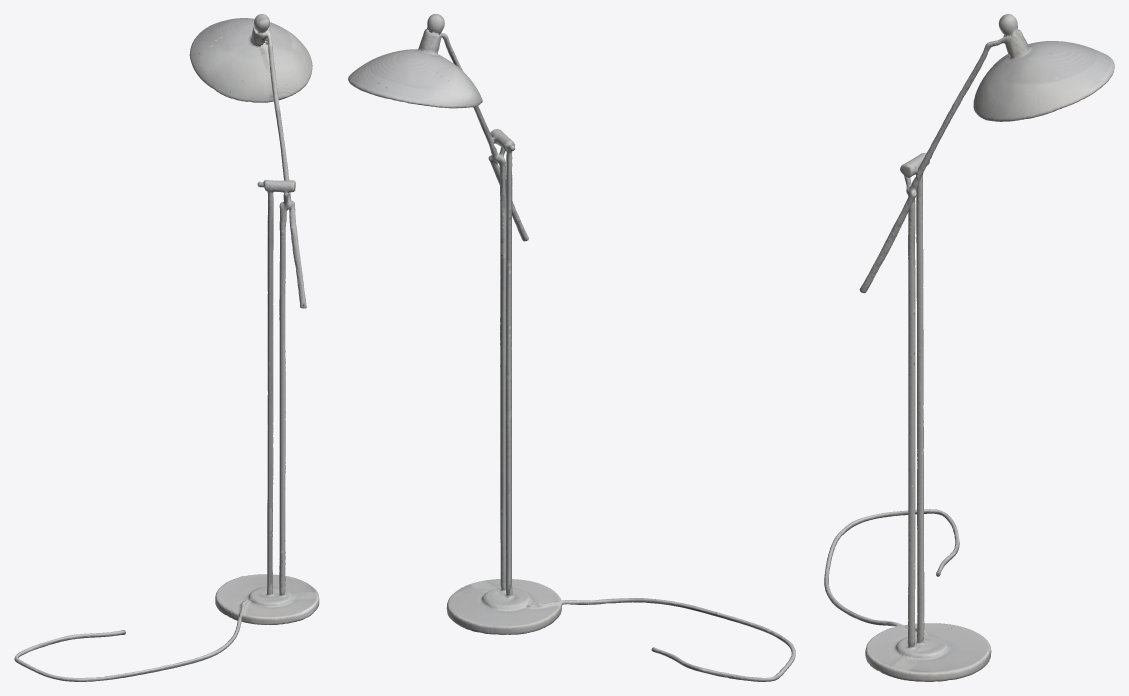
The model's file is Modern_Floor_Lamp_0831105022_texture.obj.
The picture shows the model from 3 angles, left to right: view 1: azimuth 30°, elevation 25°; view 2: azimuth 150°, elevation 25°; view 3: azimuth 270°, elevation 25°; orthographic projection. The views are drawn at different scales.
Parts seen in each view (by area): view 1: model; view 2: model; view 3: model.
Part boxes in pixels (left/top/right/bottom): model: left=14, top=14, right=319, bottom=681; model: left=348, top=14, right=795, bottom=681; model: left=824, top=14, right=1114, bottom=681.
Size of the model in its own units: 1.26 by 2 by 0.8008.
